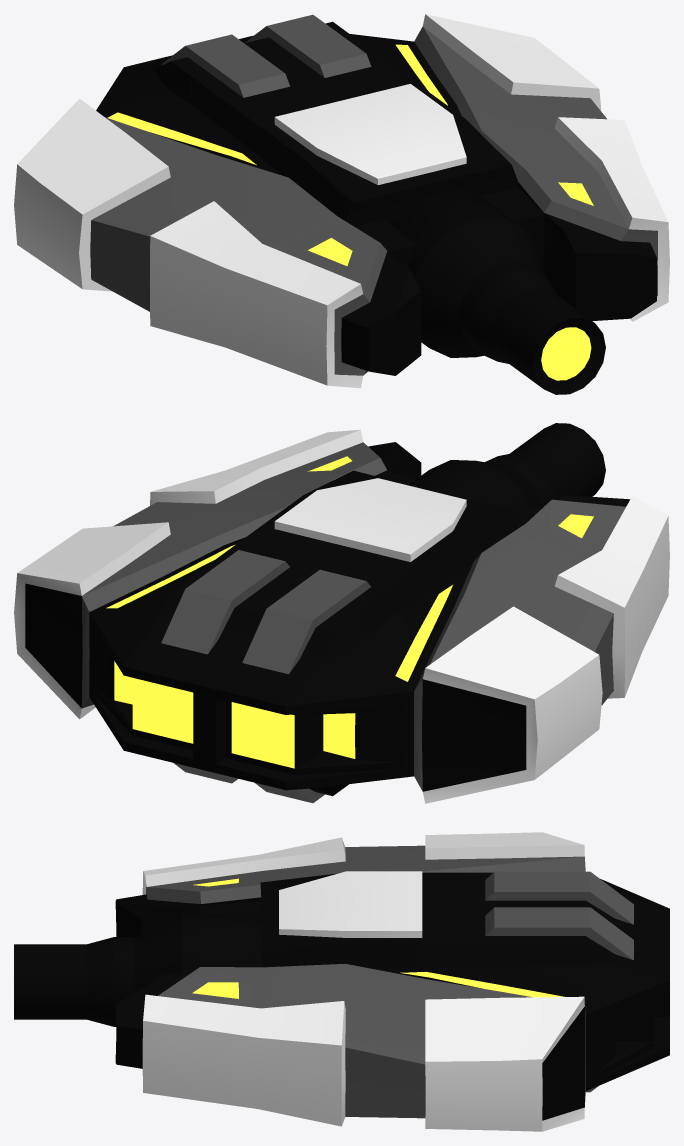
The model's file is 01_ship_light_hakkur.glb.
3 renders of one model, top to bottom at view 1: azimuth 30°, elevation 25°; view 2: azimuth 150°, elevation 25°; view 3: azimuth 270°, elevation 25°, orthographic. The views are drawn at different scales.
Visible parts, largest first — view 1: 01_light_hakkur, 01_light_hakkur_cannon; view 2: 01_light_hakkur, 01_light_hakkur_cannon; view 3: 01_light_hakkur, 01_light_hakkur_cannon.
Boxes of the visible parts, box(x1,y1,x2,y2) form: 01_light_hakkur: box(14, 14, 669, 388); 01_light_hakkur_cannon: box(390, 191, 605, 394); 01_light_hakkur: box(14, 429, 669, 803); 01_light_hakkur_cannon: box(409, 423, 605, 508); 01_light_hakkur: box(115, 832, 669, 1131); 01_light_hakkur_cannon: box(14, 913, 262, 1026).
Size of the model in its own units: 0.9426 by 0.3152 by 1.14.
